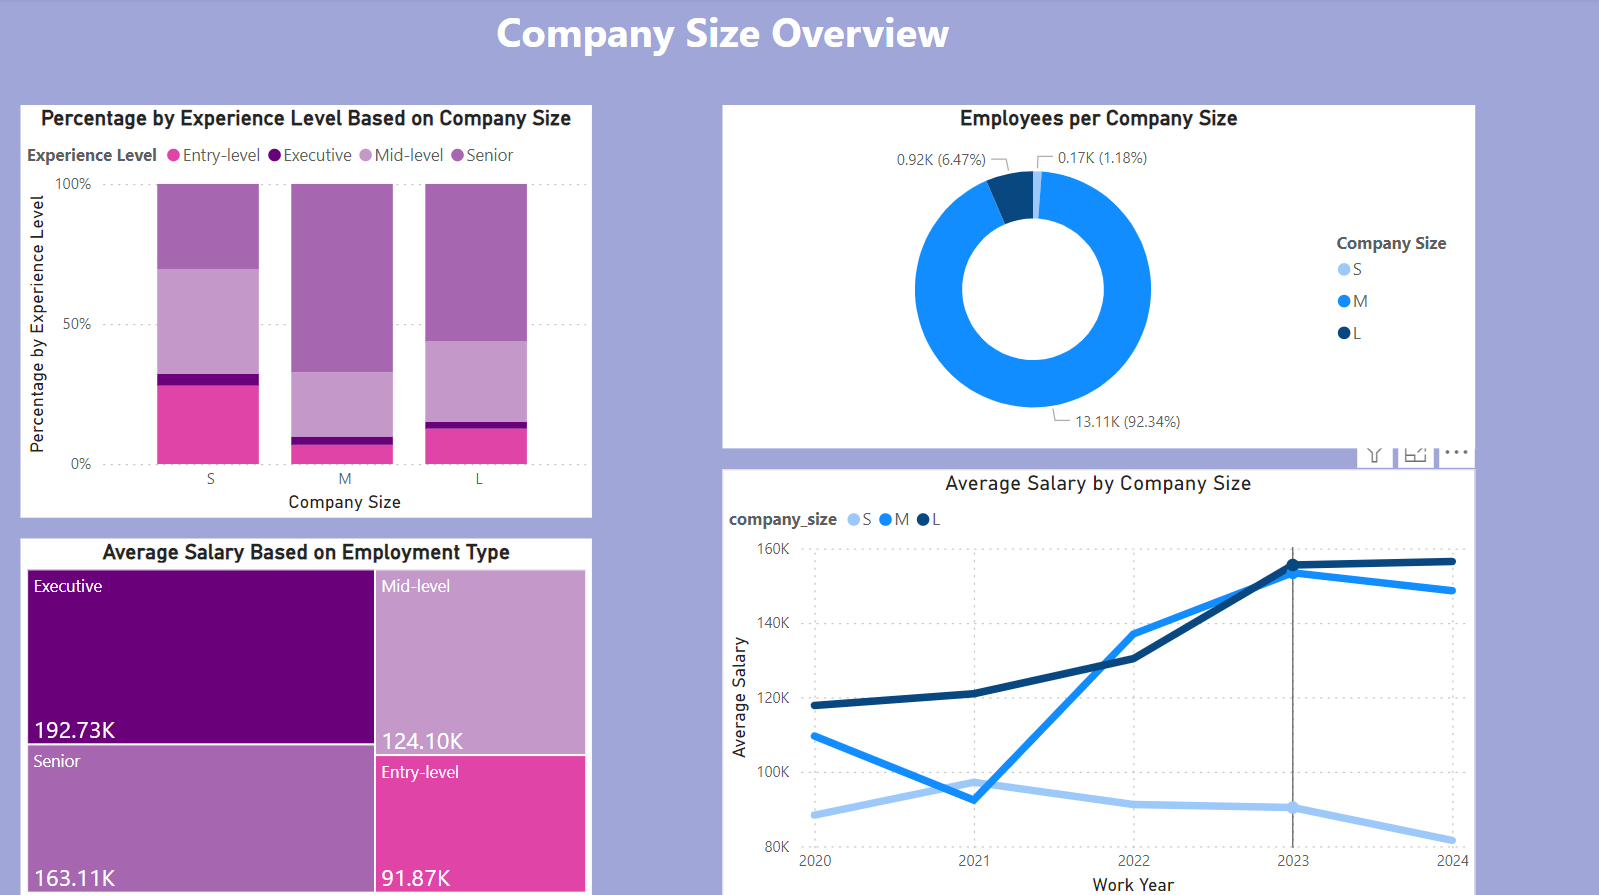

The dashboard page shown, as its layout file describes it:
{"tool":"powerbi","page":{"name":"Company Size","canvas":[1280,720],"ordinal":2},"visuals":[{"type":"lineChart","title":"Average Salary by Company Size","fields":{"Category":["Jobs_count.work_year"],"Y":["Avg(Jobs_count.salary)"],"Series":["Jobs_count.company_size"]},"box":[581.1,376.7,600,343.3],"z":0},{"type":"treemap","title":"Average Salary Based on Employment Type","fields":{"Values":["Avg(Jobs_count.salary_in_usd)"],"Group":["Jobs_count.experience_level"]},"box":[20.3,432.1,456.1,287.3],"z":1000},{"type":"donutChart","title":"Employees per Company Size","fields":{"Y":["CountNonNull(Jobs_count.company_size)"],"Category":["Jobs_count.company_size"]},"box":[580.6,86.2,600.9,274.1],"z":2000},{"type":"hundredPercentStackedColumnChart","title":"Percentage by Experience Level Based on Company Size","fields":{"Category":["Jobs_count.company_size"],"Y":["CountNonNull(Jobs_count.experience_level)"],"Series":["Jobs_count.experience_level"]},"box":[20.3,86.2,456.1,329.2],"z":3000},{"type":"textbox","box":[273.3,0,615.6,123.3],"z":4000}]}

Visuals, with their boxes in screenshot pixels (x1, y1, x2, y2), scaled from the page's 1280x720 canvas onto the 1599x895 screenshot:
"Average Salary by Company Size" lineChart: bbox=(726, 468, 1475, 894)
"Average Salary Based on Employment Type" treemap: bbox=(25, 537, 595, 894)
"Employees per Company Size" donutChart: bbox=(725, 107, 1476, 448)
"Percentage by Experience Level Based on Company Size" hundredPercentStackedColumnChart: bbox=(25, 107, 595, 516)
textbox: bbox=(341, 0, 1110, 153)
